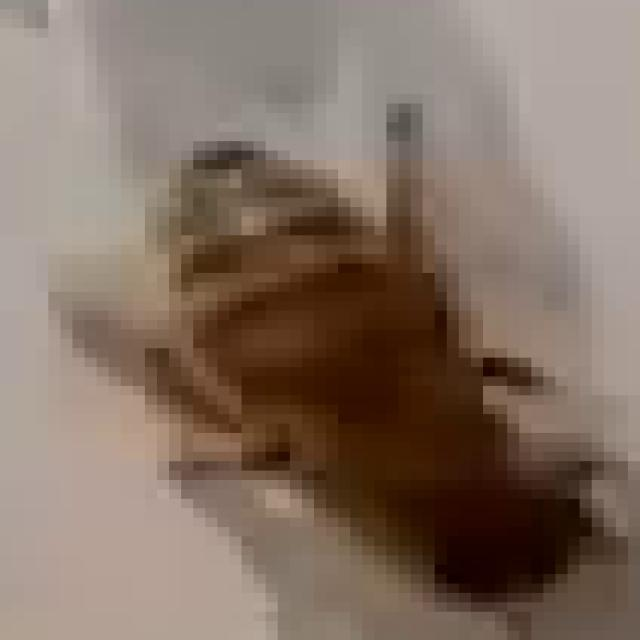honeybee: (144, 129, 608, 620)
